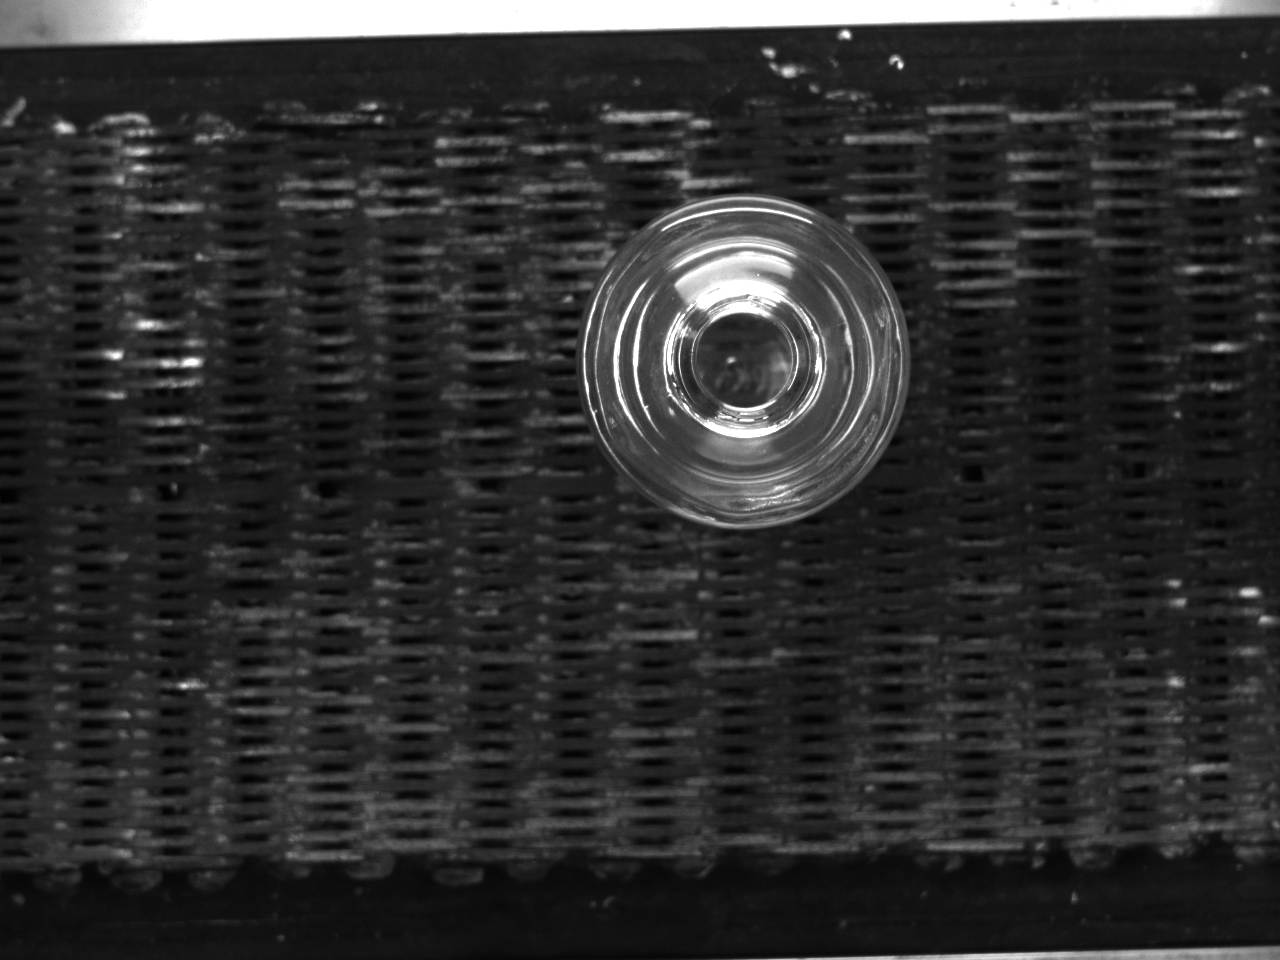bottleneck: (663, 282, 827, 439)
